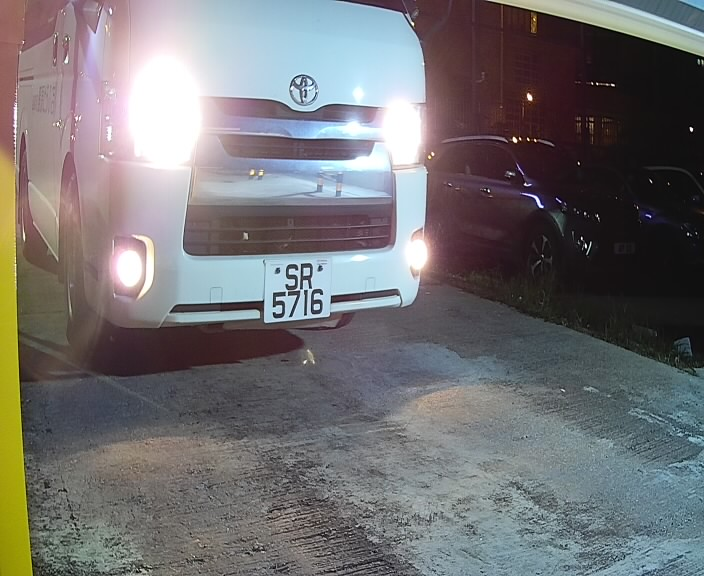Car: (34, 2, 443, 407)
License Plate: (252, 257, 348, 333)
